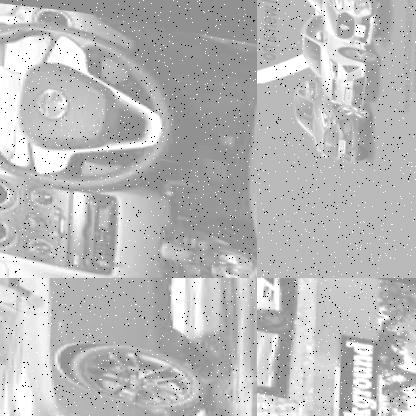car: (0, 278, 210, 416), (295, 22, 378, 103), (285, 87, 371, 158), (257, 278, 298, 395), (294, 0, 381, 34)
